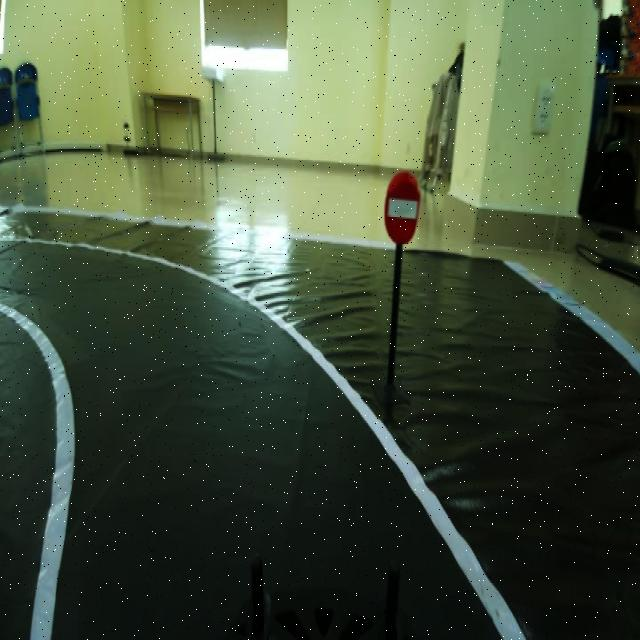no_entry: (378, 159, 427, 248)
